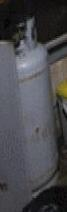cylinder: (1, 0, 67, 212)
